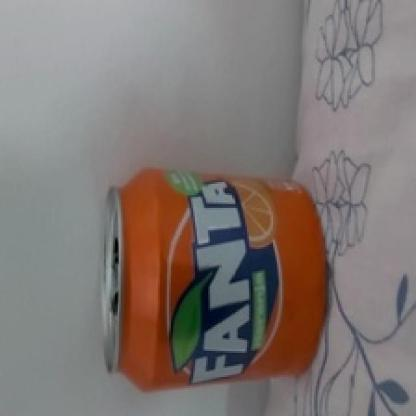Can: (108, 169, 329, 395)
